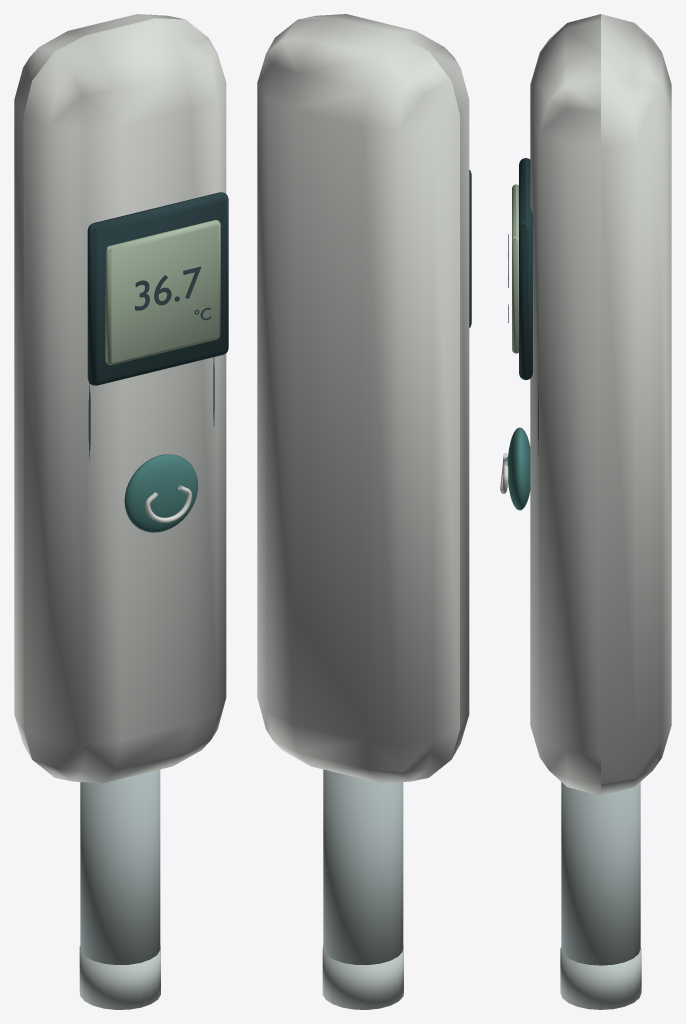
The model's file is thermometer.glb.
The picture shows the model from 3 angles, left to right: view 1: azimuth 30°, elevation 25°; view 2: azimuth 150°, elevation 25°; view 3: azimuth 270°, elevation 25°; orthographic projection.
Parts seen in each view (by area): view 1: ThermometerBody, Probe, DisplayGlass, Display, PowerButton, ProbeTip, DisplayDigits, PowerSymbol; view 2: ThermometerBody, Probe, ProbeTip; view 3: ThermometerBody, Probe, ProbeTip, Display, PowerButton, DisplayGlass.
Boxes of the visible parts, x1,y1,x2,y2 form: ThermometerBody: (14,14,226,783); Probe: (80,769,160,964); DisplayGlass: (105,220,220,365); Display: (87,192,228,385); PowerButton: (124,454,198,532); ProbeTip: (79,945,160,1009); DisplayDigits: (135,266,201,310); PowerSymbol: (145,485,191,522); ThermometerBody: (257,14,469,783); Probe: (323,769,403,964); ProbeTip: (322,945,403,1009); ThermometerBody: (530,14,671,795); Probe: (561,782,640,965); ProbeTip: (560,947,641,1009); Display: (519,158,532,379); PowerButton: (507,427,530,510); DisplayGlass: (512,184,518,353).
Bounding box in the file's own units: 0.25 × 1.19 × 0.194.
